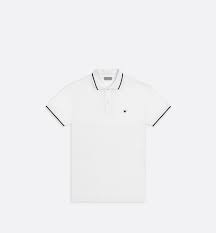S_polo shirt: (35, 64, 173, 205)
